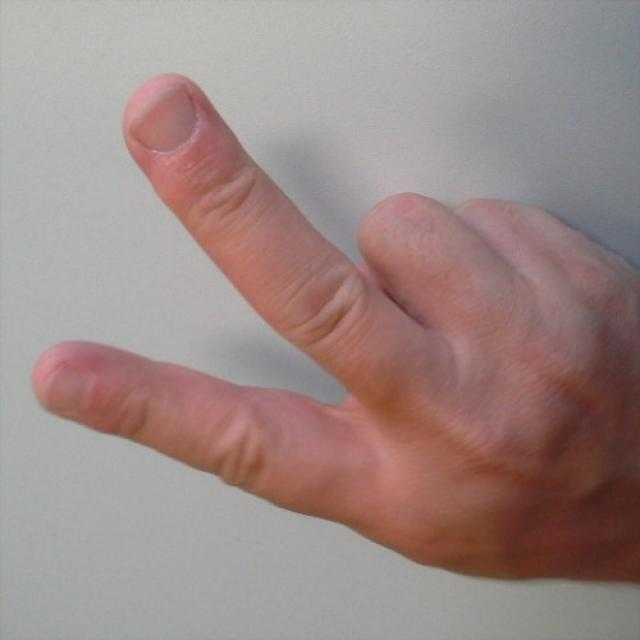scissors: (32, 66, 640, 590)
